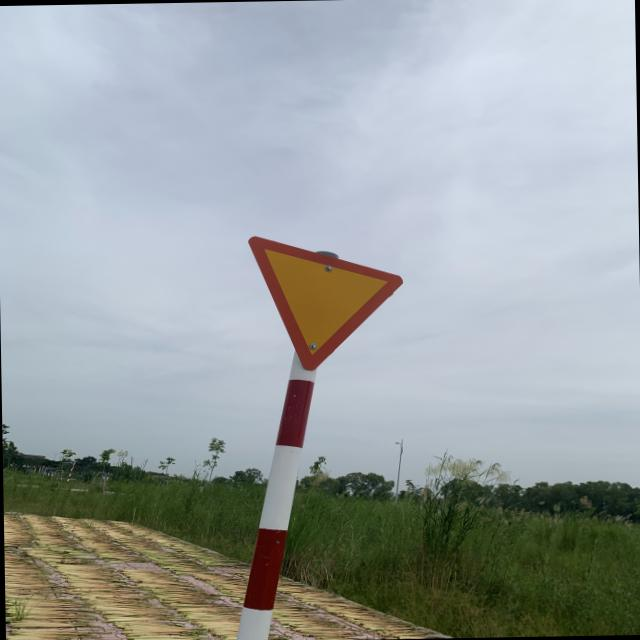Gioi_Han_Toc_Do_25: (248, 234, 404, 370)
